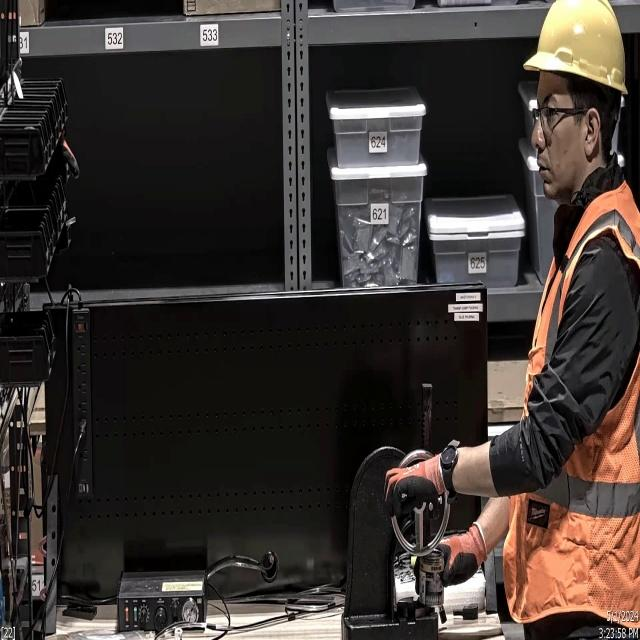gloves: (379, 446, 456, 524), (411, 523, 490, 599)
